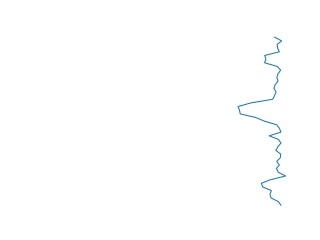interdistributaryEstuary: (233, 35, 295, 208)
